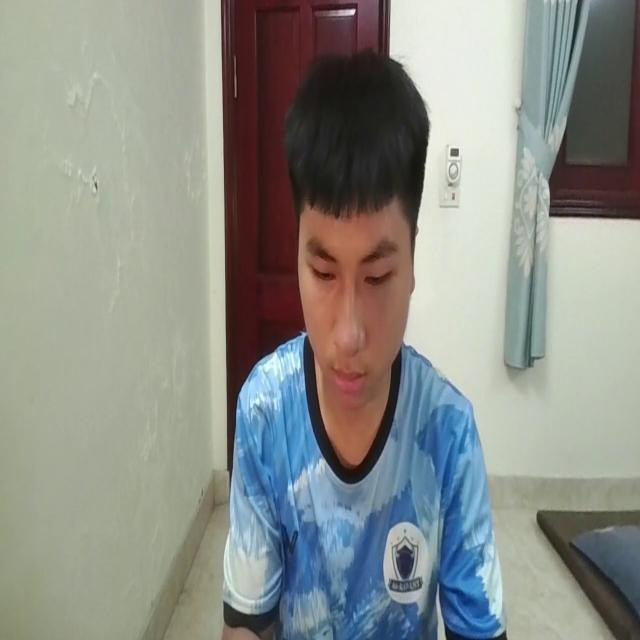student: (220, 39, 506, 640)
